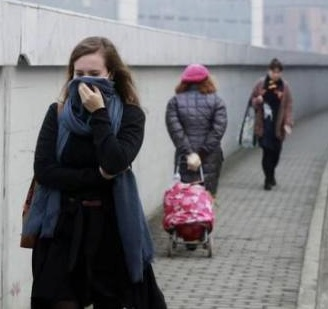person: (19, 36, 168, 309), (161, 59, 235, 259), (240, 57, 299, 192)
